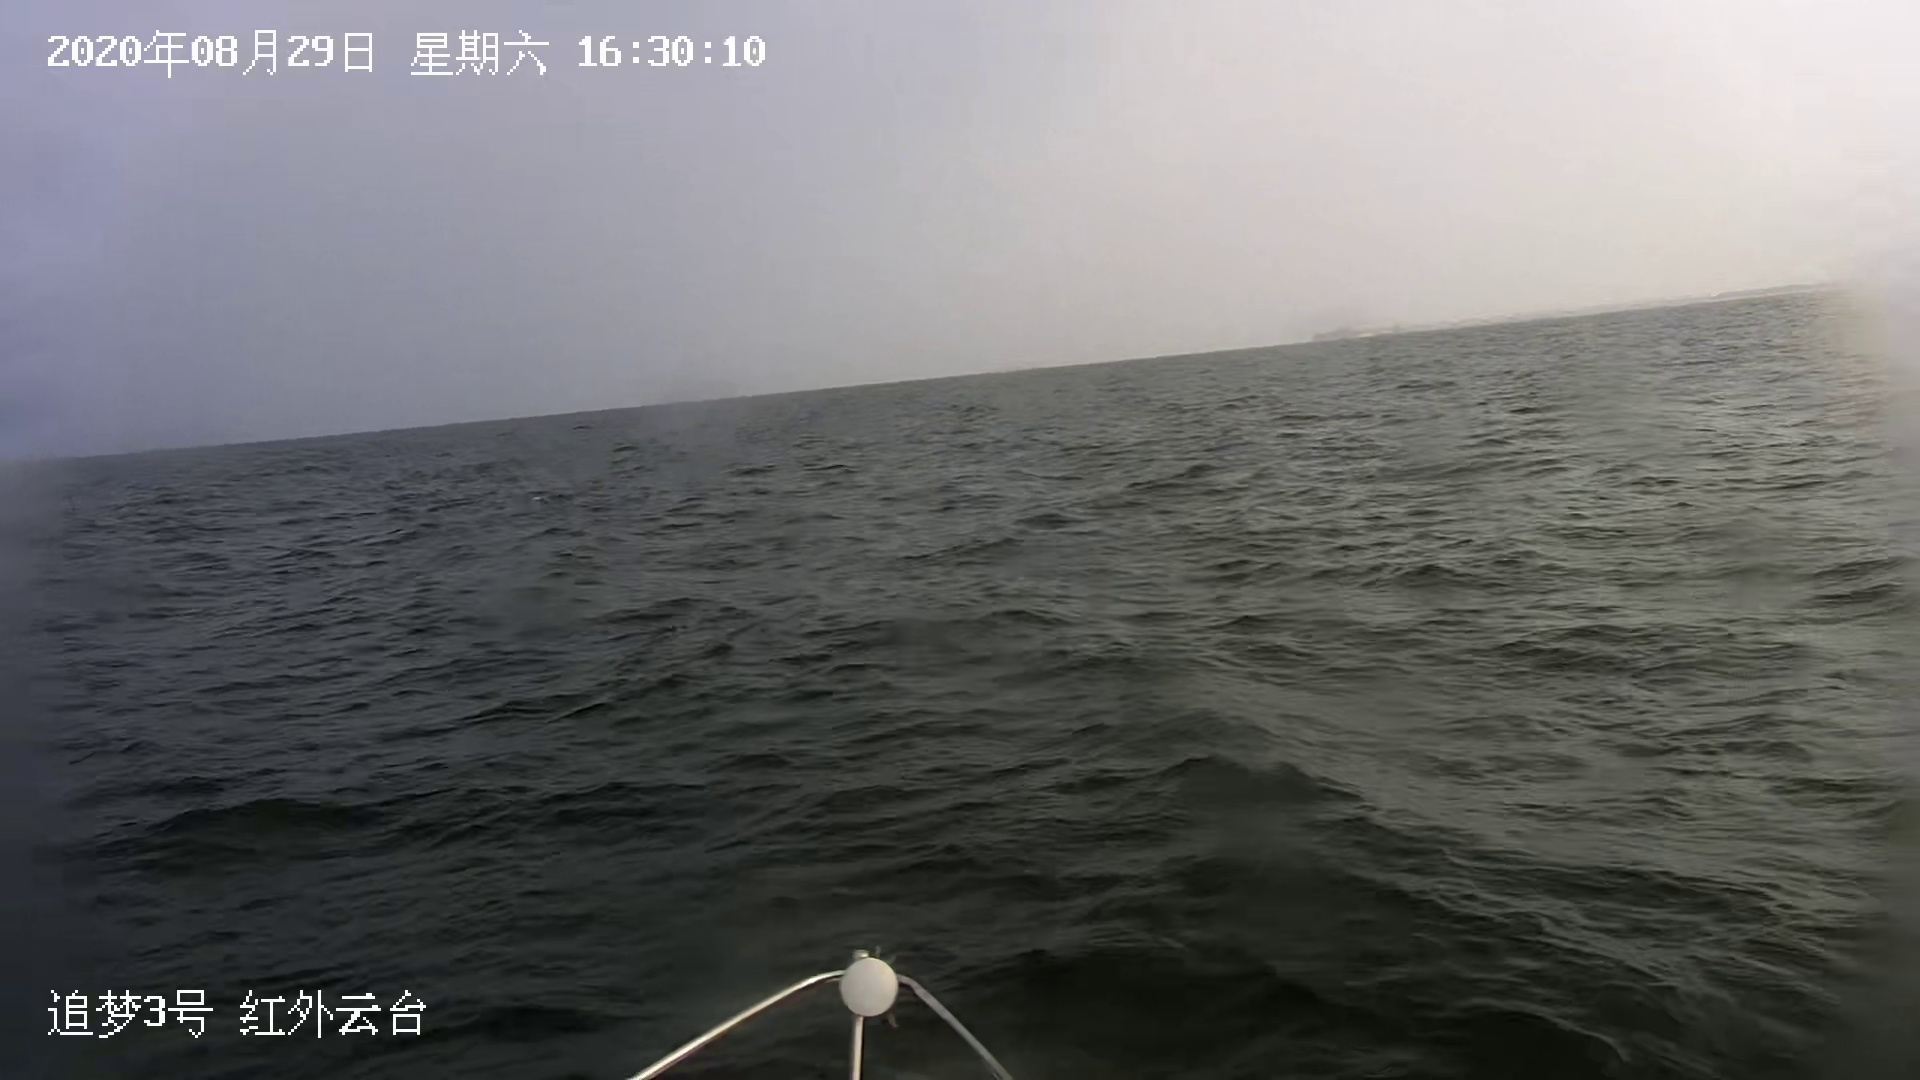coast: (1295, 287, 1920, 345)
